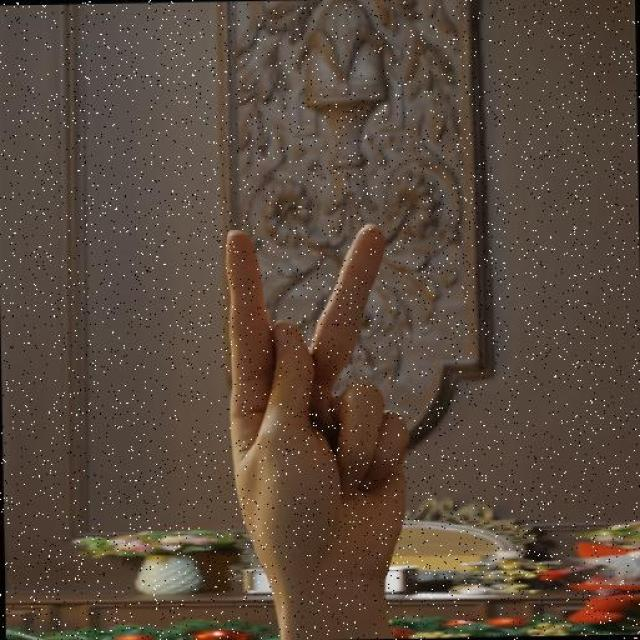K: (220, 218, 416, 598)
